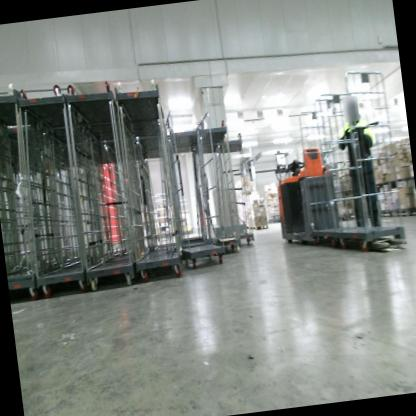pallet: (394, 204, 416, 218), (377, 204, 395, 220), (248, 221, 268, 231), (267, 216, 284, 226)
pallet_truck: (265, 131, 411, 269)
